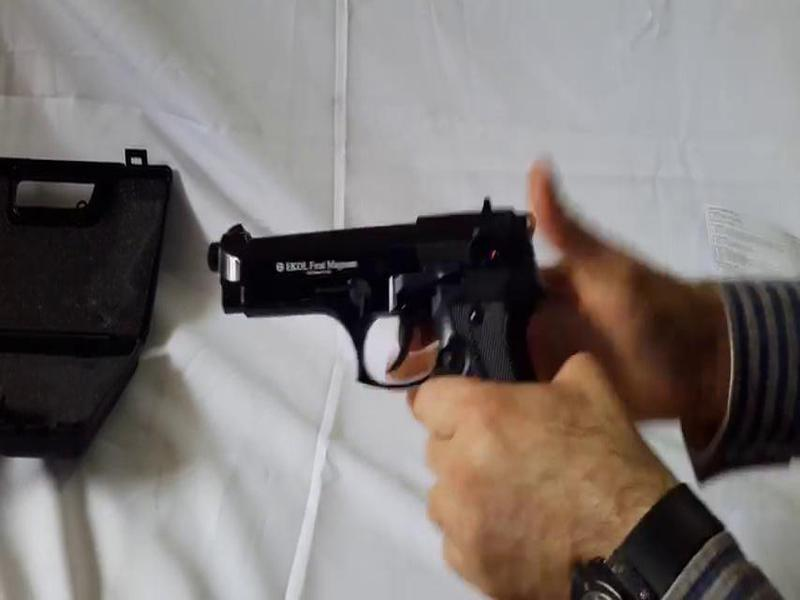Pistola: (197, 195, 555, 422)
